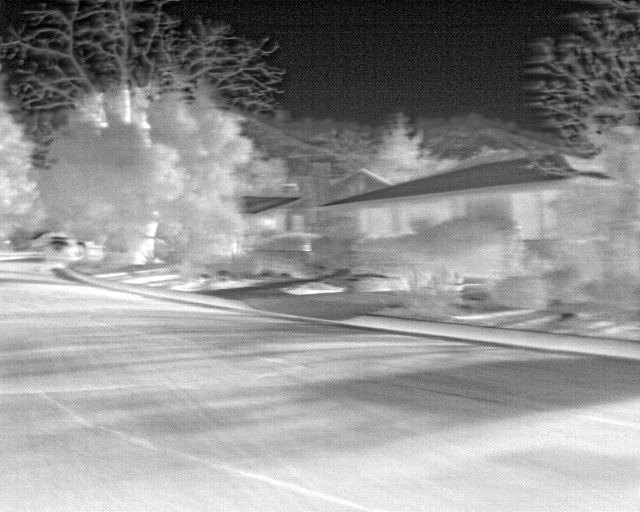car: (43, 233, 83, 266)
